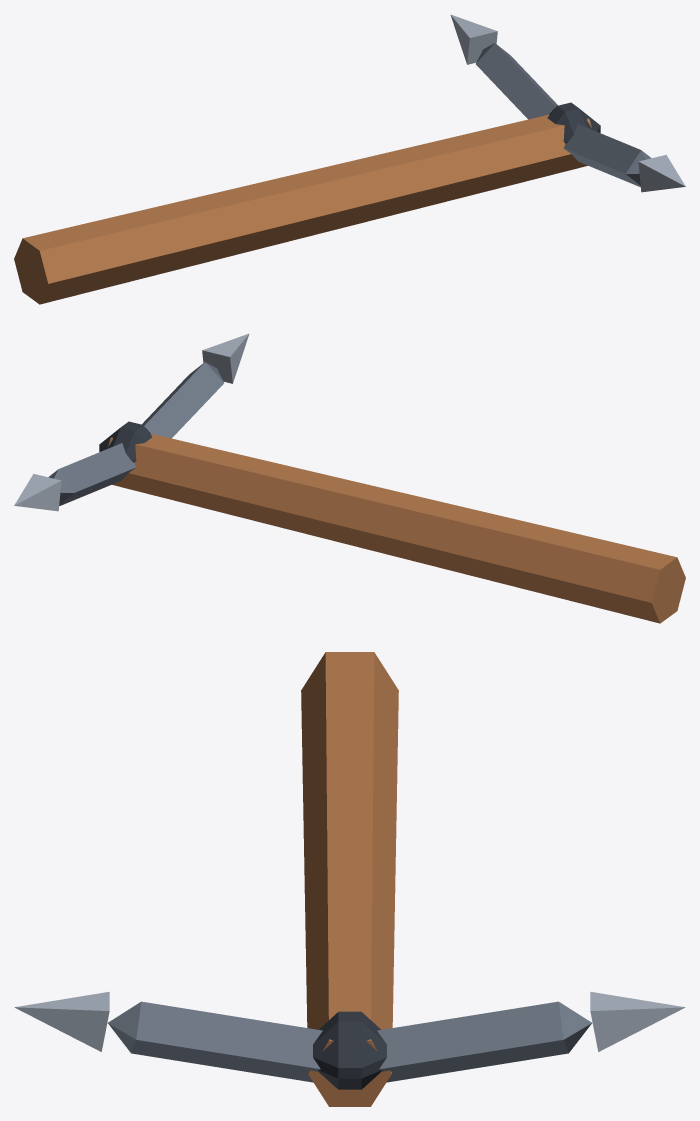
Rendered from Prop_Pickaxe.fbx.
The picture shows the model from 3 angles, top to bottom: view 1: azimuth 30°, elevation 25°; view 2: azimuth 150°, elevation 25°; view 3: azimuth 270°, elevation 25°; orthographic projection. The views are drawn at different scales.
Parts seen in each view (by area): view 1: Prop_Pickaxe; view 2: Prop_Pickaxe; view 3: Prop_Pickaxe.
Boxes of the visible parts, bbox=[...] form: Prop_Pickaxe: bbox=[14, 14, 685, 304]; Prop_Pickaxe: bbox=[14, 333, 685, 623]; Prop_Pickaxe: bbox=[14, 652, 685, 1106].
Bounding box in the file's own units: 0.8 × 0.0959 × 0.5776.
